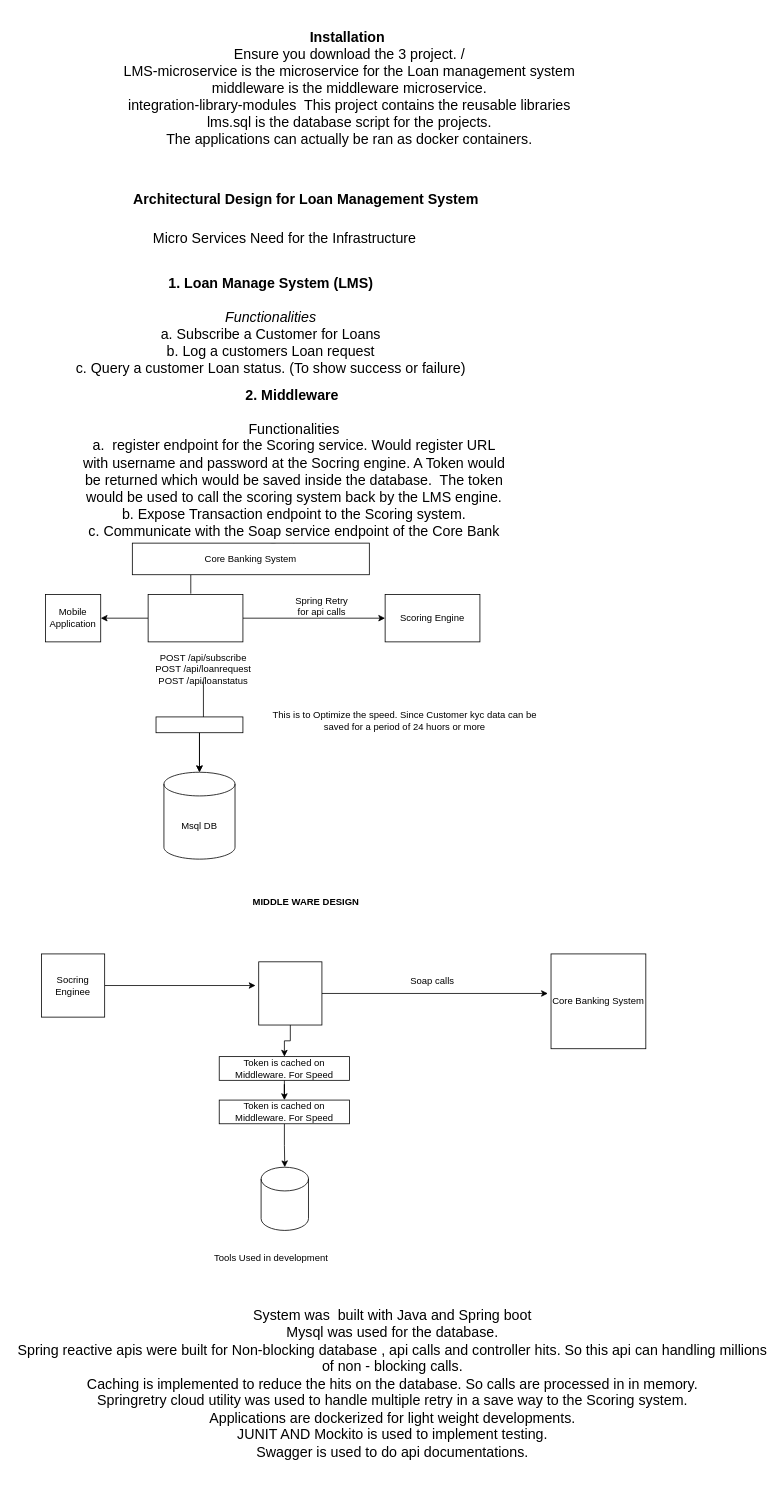
Image size: 784x1496. Some labels were removed from this diagram. The box of each missing label's shape, as (x1, y1, x2, y2) in pixels:
In memory cache: (155, 716, 243, 733)
LMS: (147, 594, 243, 642)
Middleware: (258, 961, 322, 1025)
Mysql DB: (260, 1166, 308, 1230)
